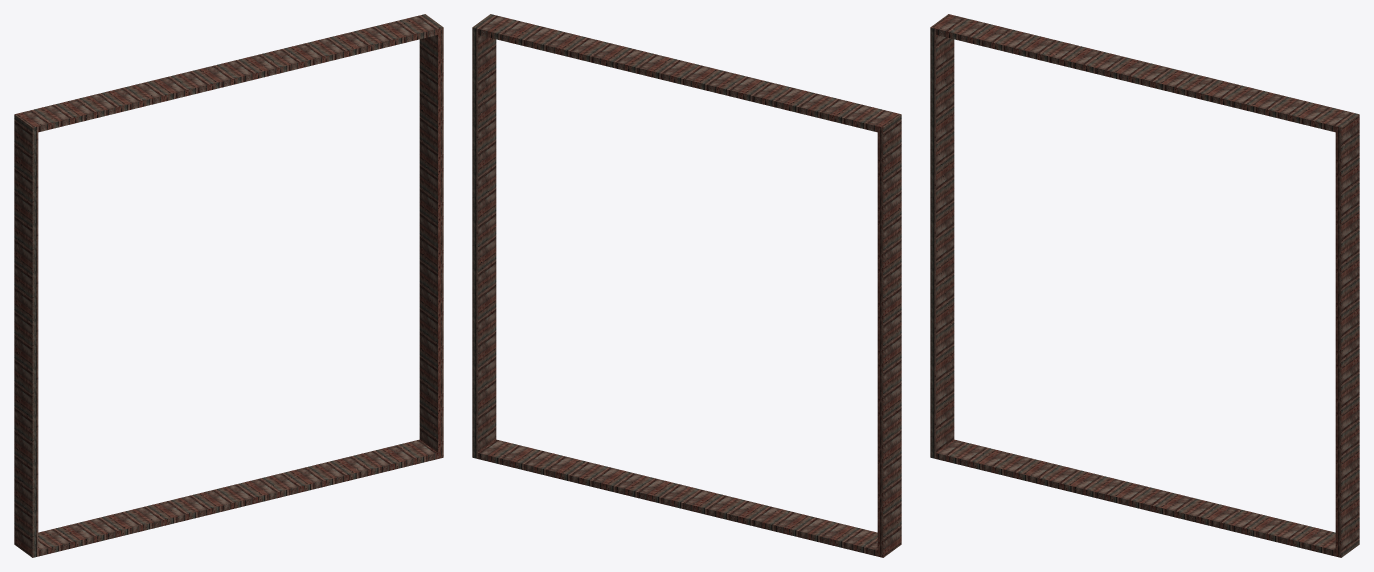
Rendered from urbanwood02fence_wtf.obj.
The picture shows the model from 3 angles, left to right: view 1: azimuth 30°, elevation 25°; view 2: azimuth 150°, elevation 25°; view 3: azimuth 330°, elevation 25°; orthographic projection.
Visible parts, largest first — view 1: group2; view 2: group2; view 3: group2.
Part boxes in pixels (x1=…): group2: x1=14, y1=14, x2=443, y2=557; group2: x1=472, y1=14, x2=901, y2=557; group2: x1=930, y1=14, x2=1359, y2=557.
Size of the model in its own units: 660 by 660 by 51.12.
